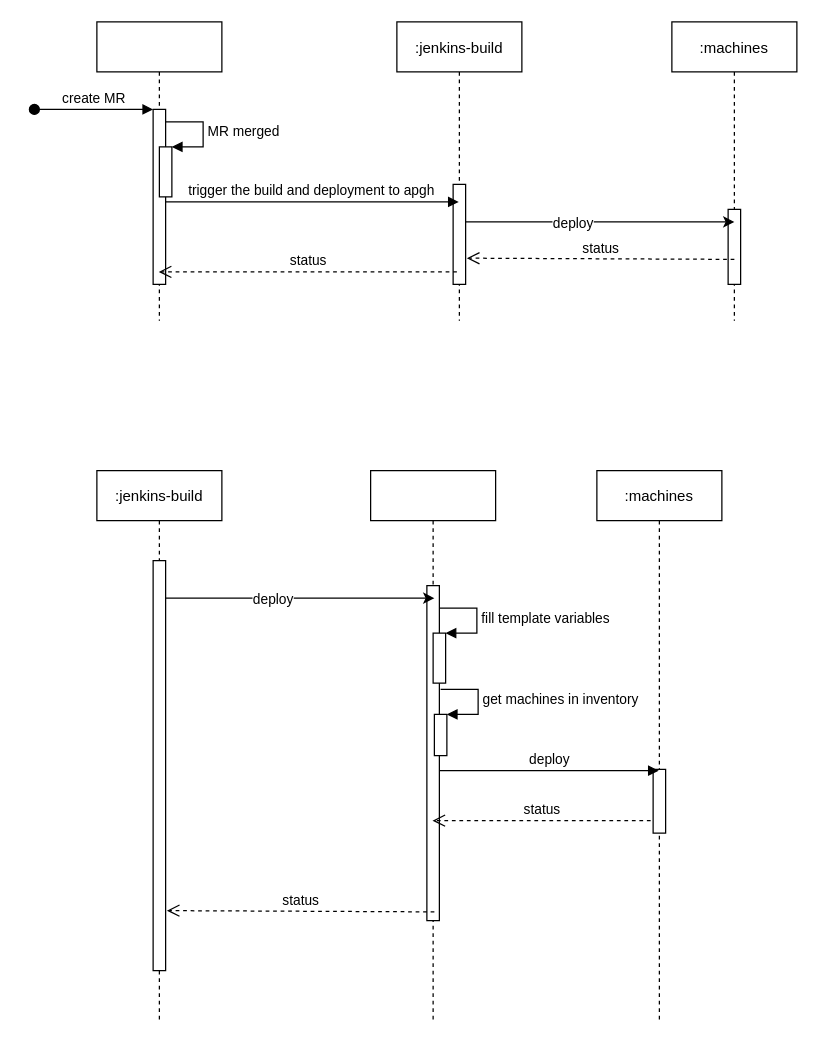
The diagram is 819 pixels wide and 1043 high, and some of its shapes have lost their labels. The box of each missing label's shape, as (x1, y1, x2, y2) in pixels:
:ansible investory and variables: (369, 469, 496, 1021)
:gitlab: (96, 21, 222, 321)
